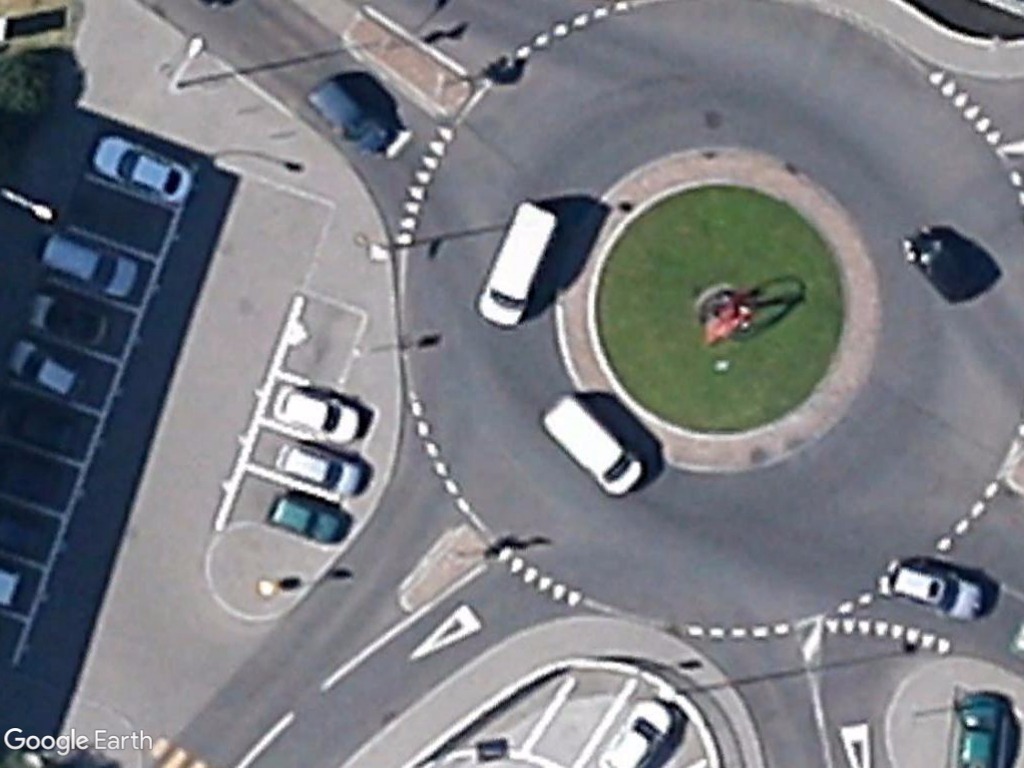car: (87, 132, 194, 208), (302, 75, 393, 161), (881, 556, 988, 623), (33, 234, 139, 299), (269, 381, 368, 448), (271, 436, 369, 501), (3, 339, 94, 406), (267, 492, 353, 548)
van: (536, 387, 646, 500), (471, 198, 559, 331)
